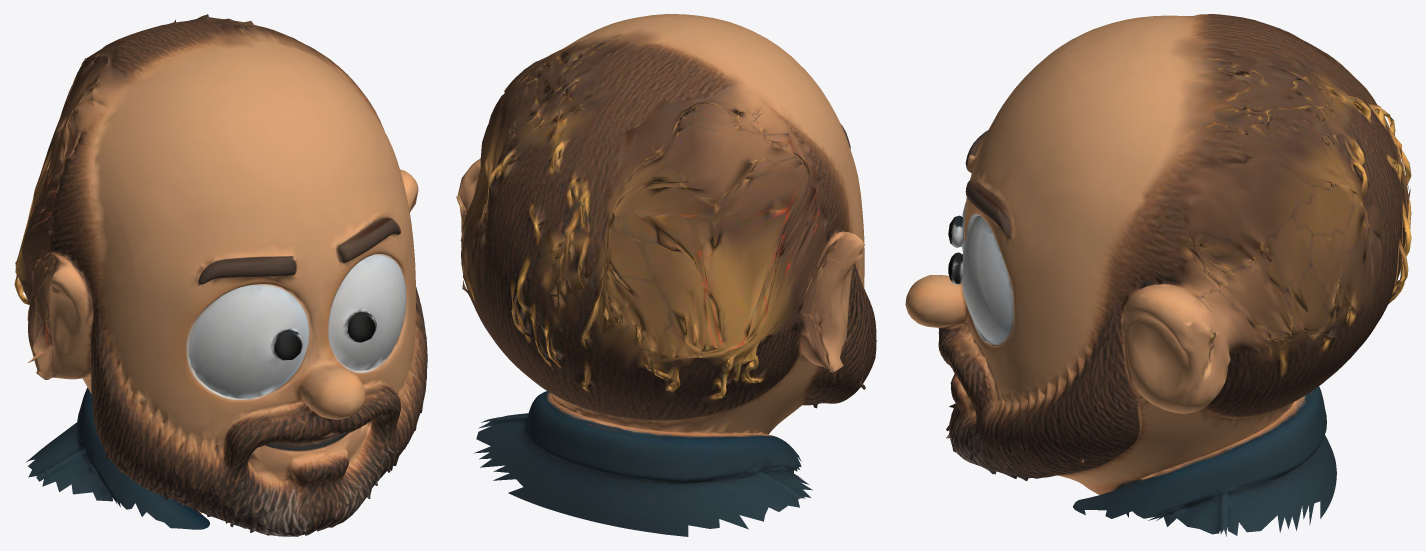
File: jack-head.glb
The picture shows the model from 3 angles, left to right: view 1: azimuth 30°, elevation 25°; view 2: azimuth 150°, elevation 25°; view 3: azimuth 270°, elevation 25°; orthographic projection. The views are drawn at different scales.
Visible parts, largest first — view 1: Face; view 2: Face; view 3: Face.
Part boxes in pixels (bbox=[...]): Face: bbox=[14, 14, 427, 536]; Face: bbox=[456, 14, 876, 536]; Face: bbox=[905, 14, 1411, 536].
Size of what is drawn, in the model's own units: 0.9761 by 1.04 by 1.09.
2 materials, 1 textured.
